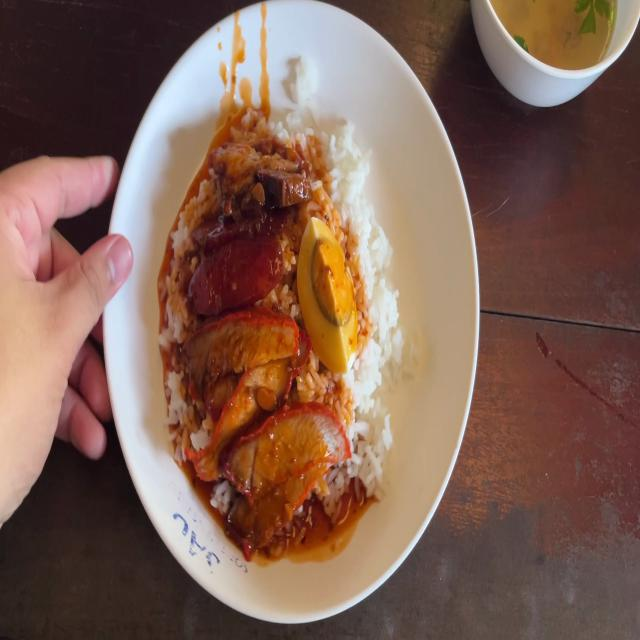01boiled_egg: (301, 230, 355, 370)
01chainese_sausage: (188, 215, 287, 305)
01crispy_pork: (208, 130, 298, 197)
01red_pork: (189, 315, 302, 485), (222, 398, 340, 532)
01red_pork_and_crispy_pork: (169, 112, 397, 513)
01rice: (352, 225, 394, 388), (298, 129, 369, 219), (347, 397, 389, 507)
